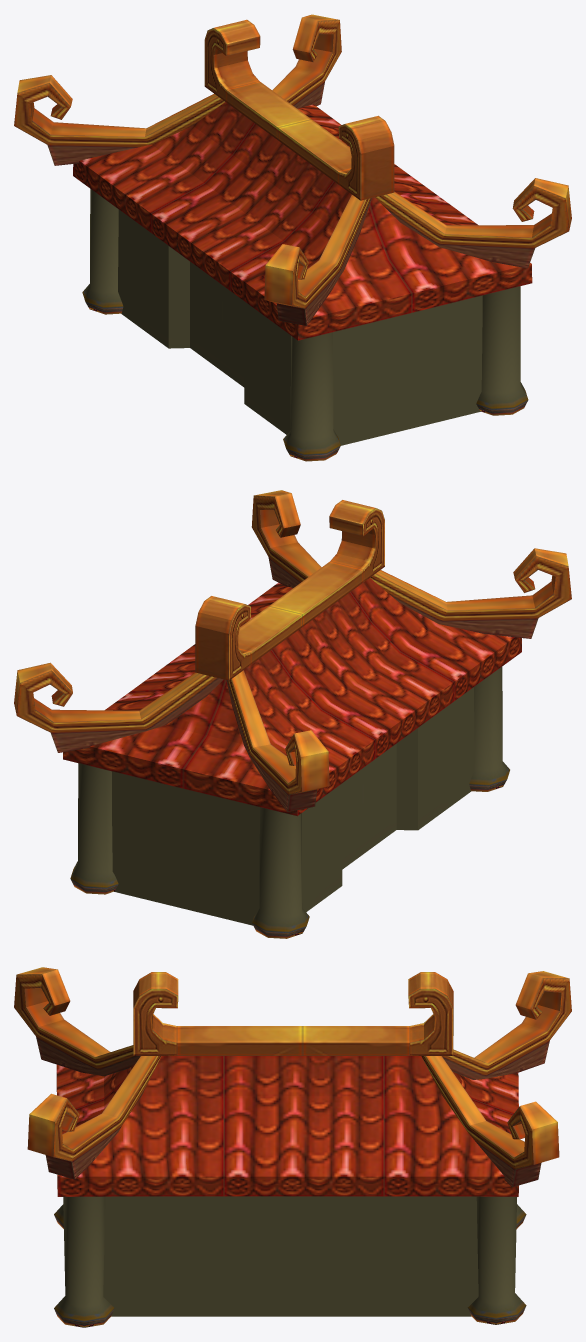
File: jianzhu07.FBX
3 views of the same model, one above another, from view 1: azimuth 30°, elevation 25°; view 2: azimuth 150°, elevation 25°; view 3: azimuth 270°, elevation 25° (orthographic). The views are drawn at different scales.
Visible parts, largest first — view 1: Object151; view 2: Object151; view 3: Object151.
Part boxes in pixels (box(x1,y1,x2,y2)): Object151: box(14, 14, 571, 461); Object151: box(14, 490, 571, 938); Object151: box(14, 967, 571, 1327).
Bounding box in the file's own units: 258 × 215 × 377.
